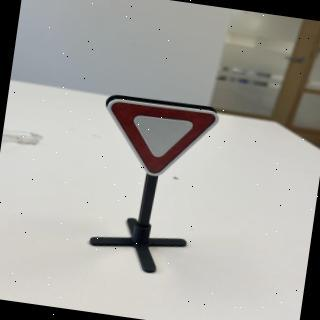sign_yield: (96, 93, 226, 188)
